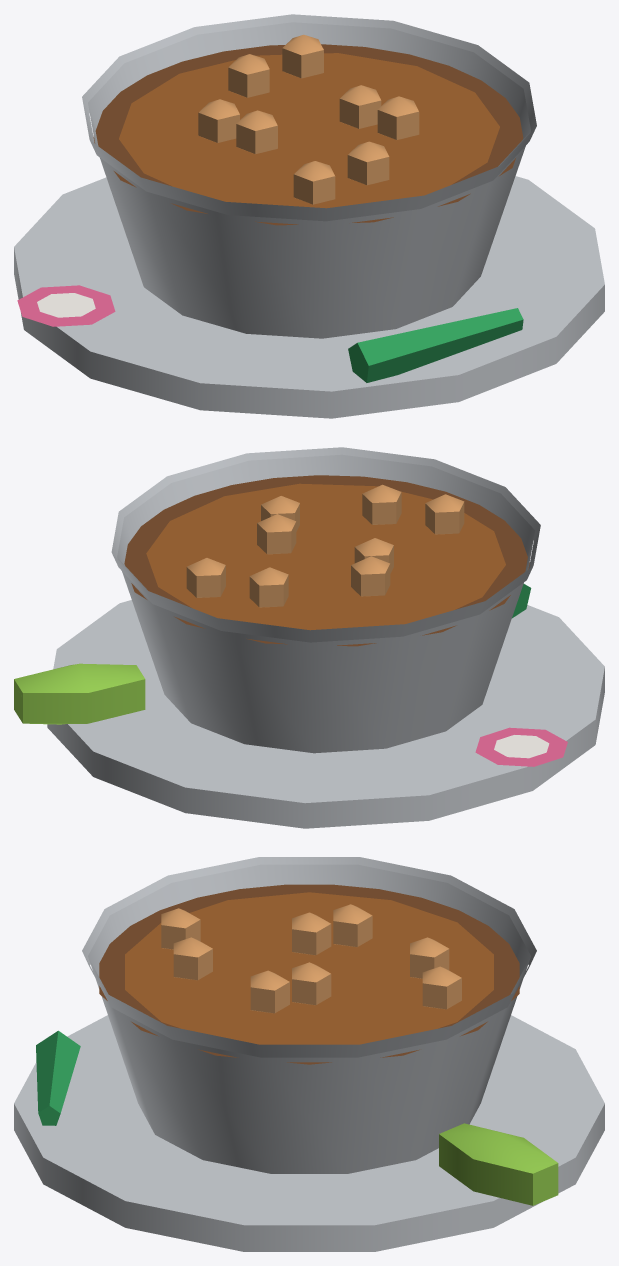
Rendered from pass_chole.glb.
The picture shows the model from 3 angles, top to bottom: view 1: azimuth 30°, elevation 25°; view 2: azimuth 150°, elevation 25°; view 3: azimuth 270°, elevation 25°; orthographic projection. The views are drawn at different scales.
Visible parts, largest first — view 1: pass_chole; view 2: pass_chole; view 3: pass_chole.
Boxes of the visible parts, box(x1,y1,x2,y2) form: pass_chole: box(14, 14, 604, 418); pass_chole: box(14, 447, 604, 828); pass_chole: box(14, 857, 604, 1251).
Size of the model in its own units: 0.2015 by 0.072 by 0.2.
Materials: 1 (1 with a texture image).
